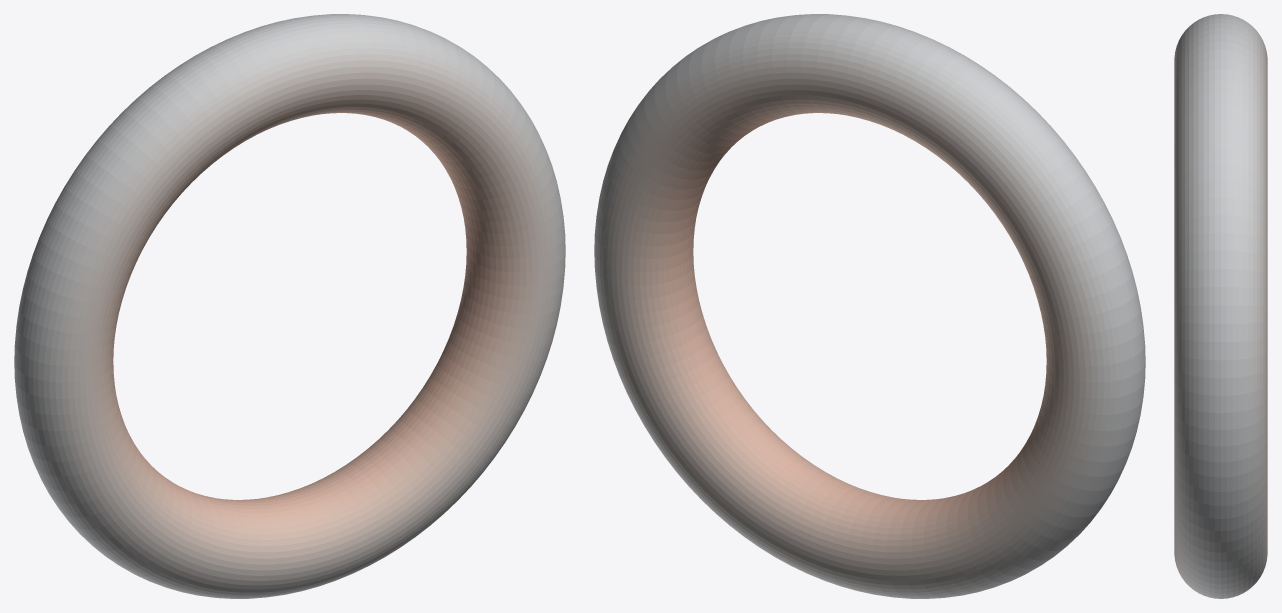
3 renders of one model, left to right at view 1: azimuth 30°, elevation 25°; view 2: azimuth 150°, elevation 25°; view 3: azimuth 270°, elevation 25°, orthographic. The views are drawn at different scales.
Visible parts, largest first — view 1: world; view 2: world; view 3: world.
Part boxes in pixels (bbox=[...]): world: bbox=[14, 14, 565, 598]; world: bbox=[594, 14, 1145, 598]; world: bbox=[1174, 14, 1267, 598].
Size of the model in its own units: 30.93 by 30.93 by 4.92.
